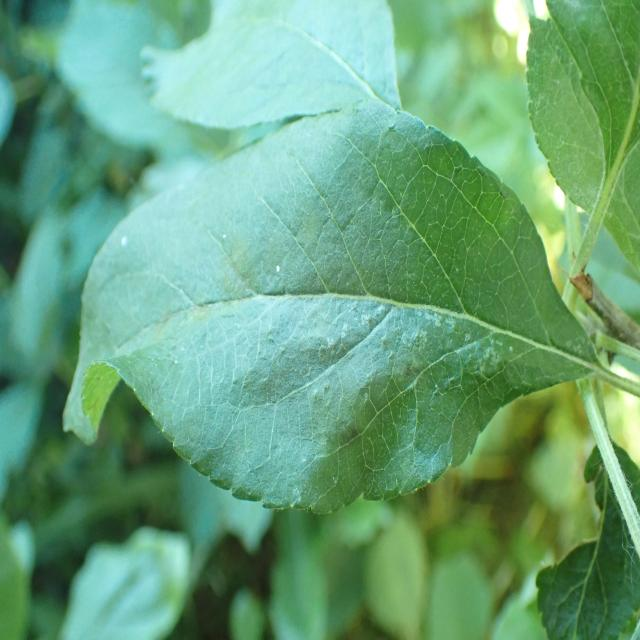scab: (105, 158, 503, 425)
